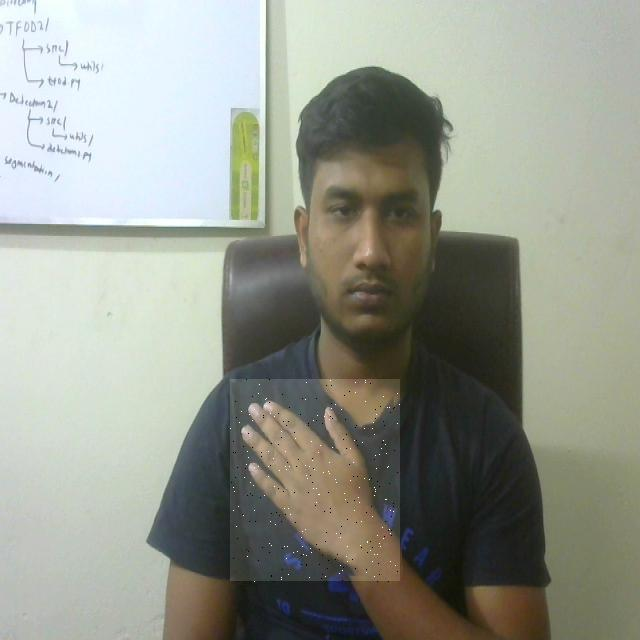Please: (230, 380, 400, 584)
